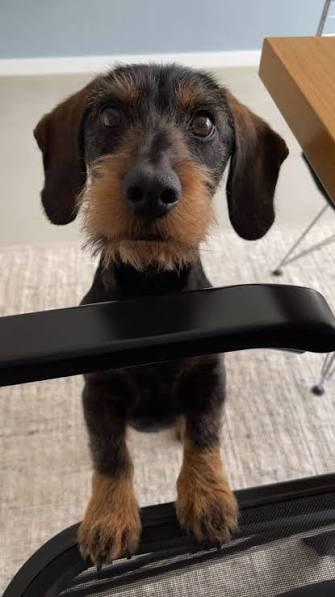puppy-dog: (31, 61, 291, 566)
